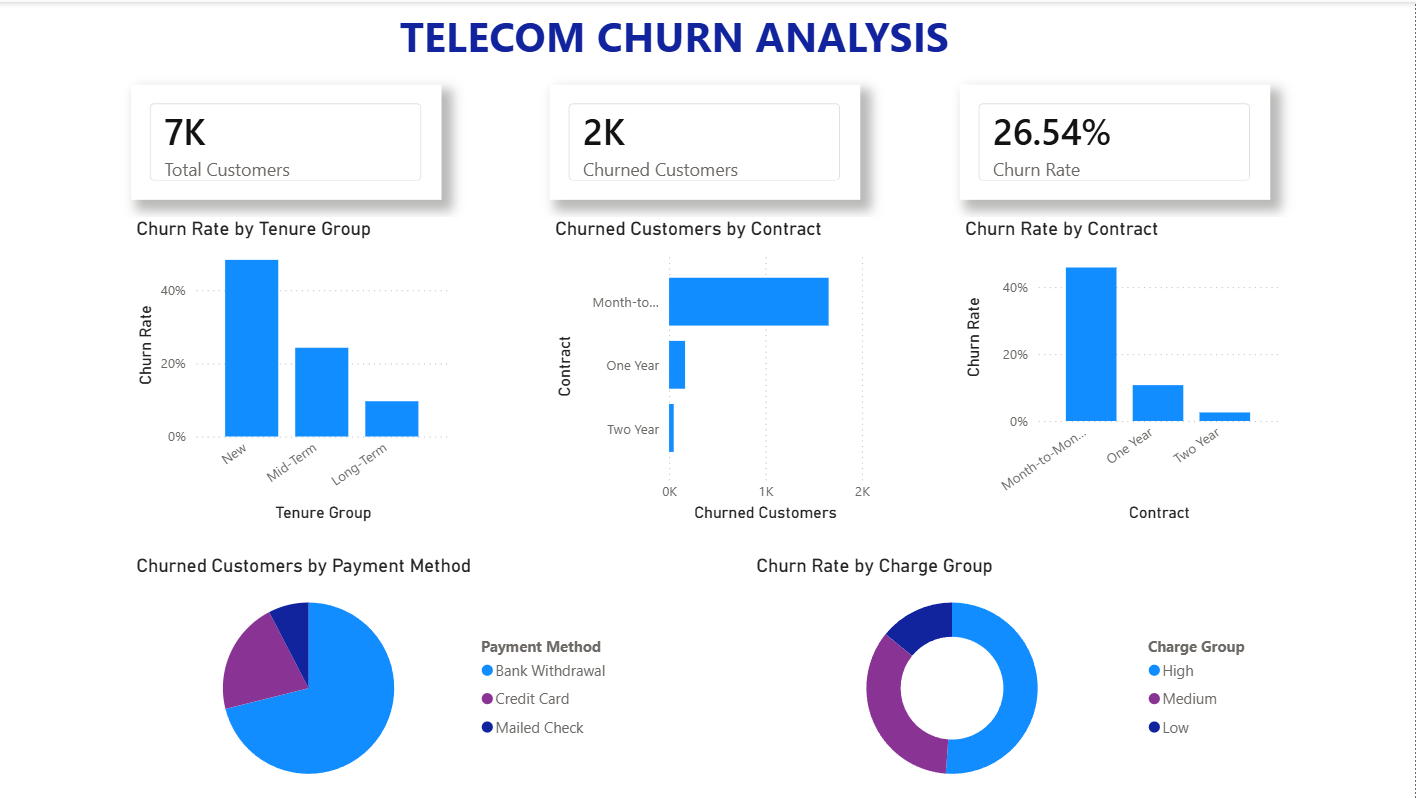

What the dashboard file says about the page in this screenshot:
{"tool":"powerbi","page":{"name":"Page 1","canvas":[1280,720],"ordinal":0},"visuals":[{"type":"textbox","box":[197.6,0,828.8,75.5],"z":0},{"type":"cardVisual","fields":{"Data":["telco_updated.Total Customers"]},"box":[122.1,74.1,279.9,104.3],"z":1000},{"type":"cardVisual","fields":{"Data":["telco_updated.Churned Customers"]},"box":[499.5,74.1,279.9,104.3],"z":2000},{"type":"cardVisual","fields":{"Data":["telco_updated.Churn Rate"]},"box":[868.6,74.1,279.9,104.3],"z":3000},{"type":"clusteredBarChart","fields":{"Category":["telco_updated.Contract"],"Y":["telco_updated.Churned Customers"]},"box":[499.5,193.5,293.7,279.9],"z":4000},{"type":"clusteredColumnChart","fields":{"Y":["telco_updated.Churn Rate"],"Category":["telco_updated.Contract"]},"box":[868.6,193.5,293.7,279.9],"z":5000},{"type":"pieChart","fields":{"Y":["telco_updated.Churned Customers"],"Category":["telco_updated.Payment Method"]},"box":[122.1,498.1,444.6,222.3],"z":6000},{"type":"columnChart","fields":{"Category":["telco_updated.Tenure Group"],"Y":["telco_updated.Churn Rate"]},"box":[122.1,193.5,292.3,279.9],"z":7000},{"type":"donutChart","fields":{"Category":["telco_updated.Charge Group"],"Y":["telco_updated.Churn Rate"]},"box":[680.6,498.1,467.9,222.3],"z":8000}]}

Visuals, with their boxes in screenshot pixels (x1, y1, x2, y2), scaled from the page's 1280x720 canvas onto the 1416x798 screenshot:
textbox: region(219, 0, 1135, 84)
cardVisual - telco_updated.Total Customers: region(135, 82, 445, 198)
cardVisual - telco_updated.Churned Customers: region(553, 82, 862, 198)
cardVisual - telco_updated.Churn Rate: region(961, 82, 1271, 198)
clusteredBarChart - telco_updated.Contract x telco_updated.Churned Customers: region(553, 214, 877, 525)
clusteredColumnChart - telco_updated.Churn Rate x telco_updated.Contract: region(961, 214, 1286, 525)
pieChart - telco_updated.Churned Customers x telco_updated.Payment Method: region(135, 552, 627, 797)
columnChart - telco_updated.Tenure Group x telco_updated.Churn Rate: region(135, 214, 458, 525)
donutChart - telco_updated.Charge Group x telco_updated.Churn Rate: region(753, 552, 1271, 797)
